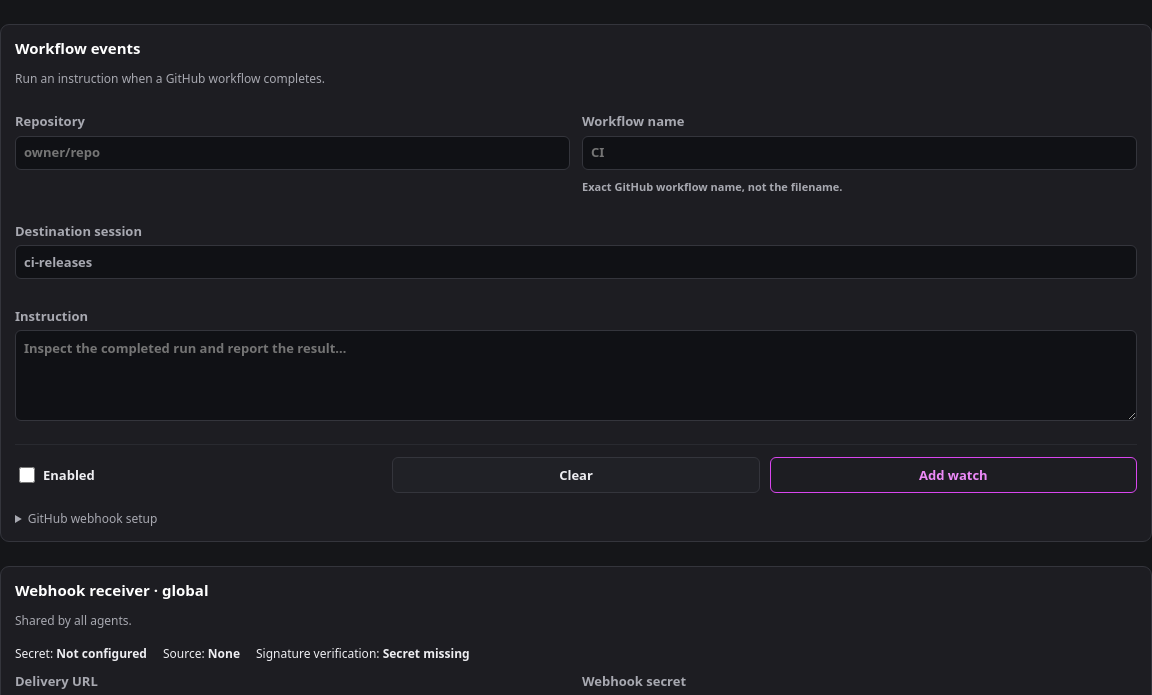
Test: validates then creates an explicit instruction and destination, disabled by default
Click the button "Add watch" at (953, 475), box [770,457,1137,493]
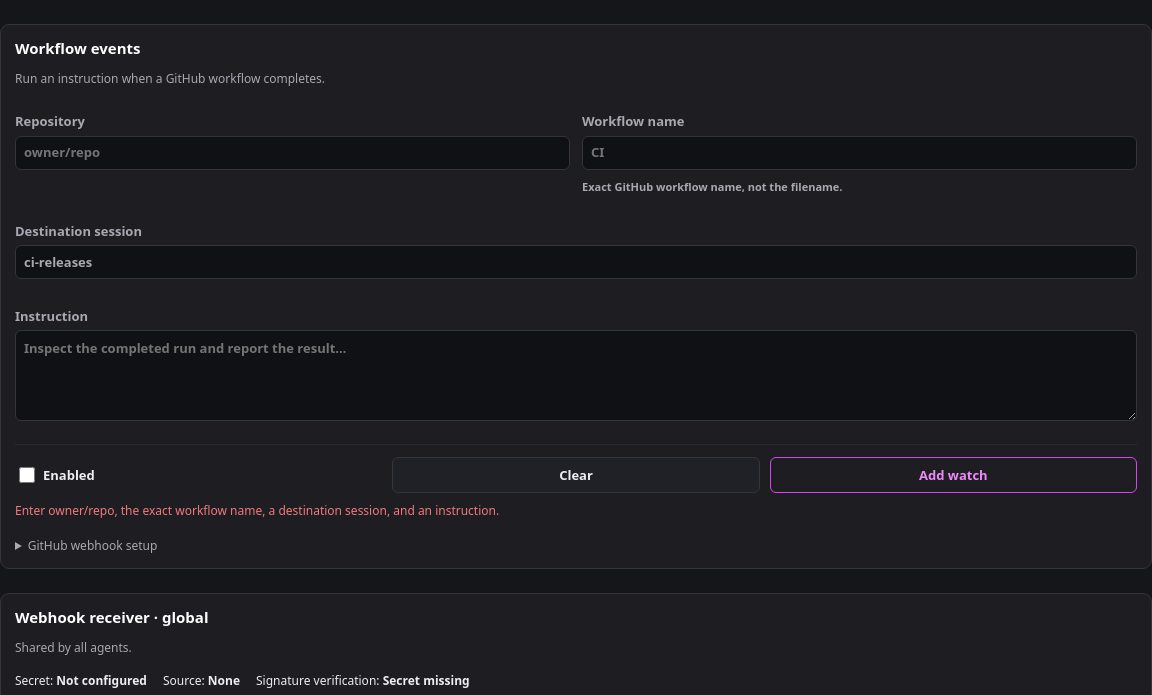
Result: the message shows "Enter owner/repo" at [15,502,499,519]
Type "kingdom/ui" into the field labelled "Repository" at (292, 153), box [15,136,570,170]
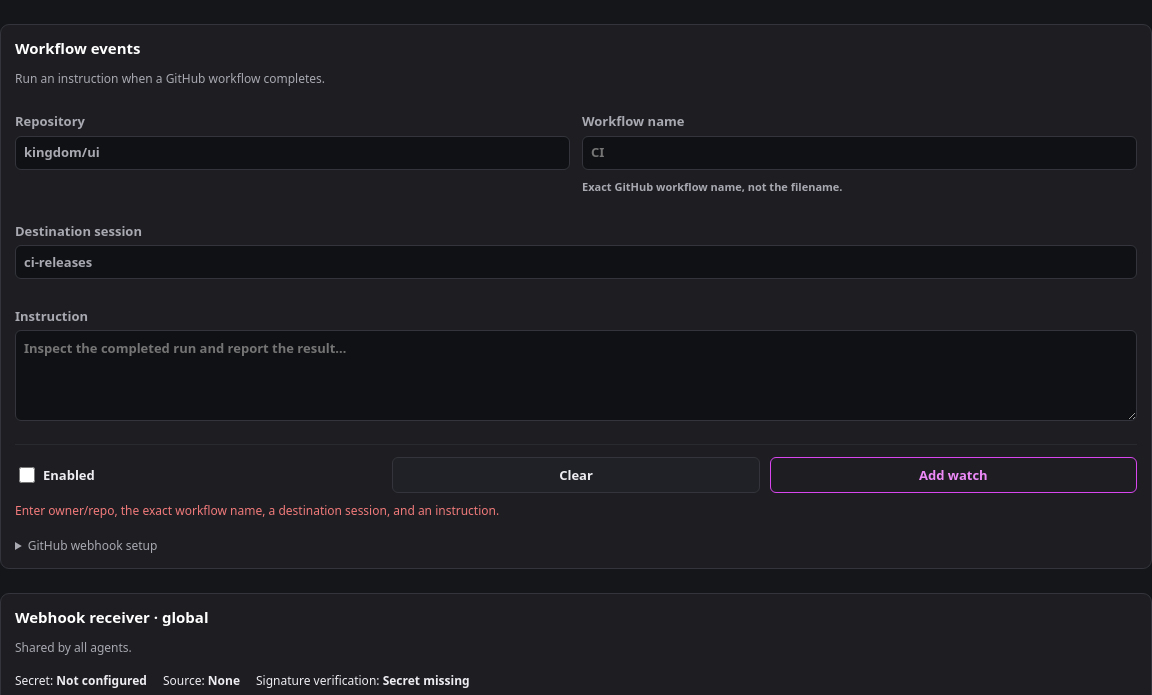
Type "CI exact name" into the field labelled "Workflow name Exact GitHub workflow name, not the filename." at (860, 153), box [582,136,1137,170]
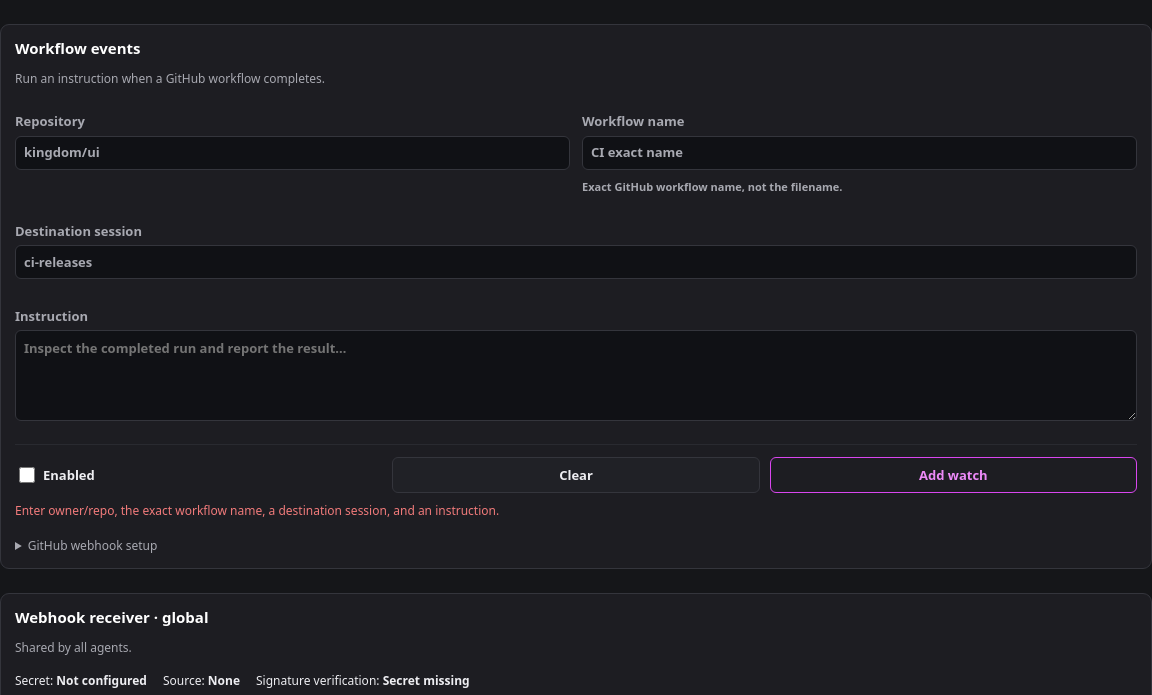
Type "Report failures" into the text box labelled "Instruction" at (576, 376), box [15,330,1137,421]
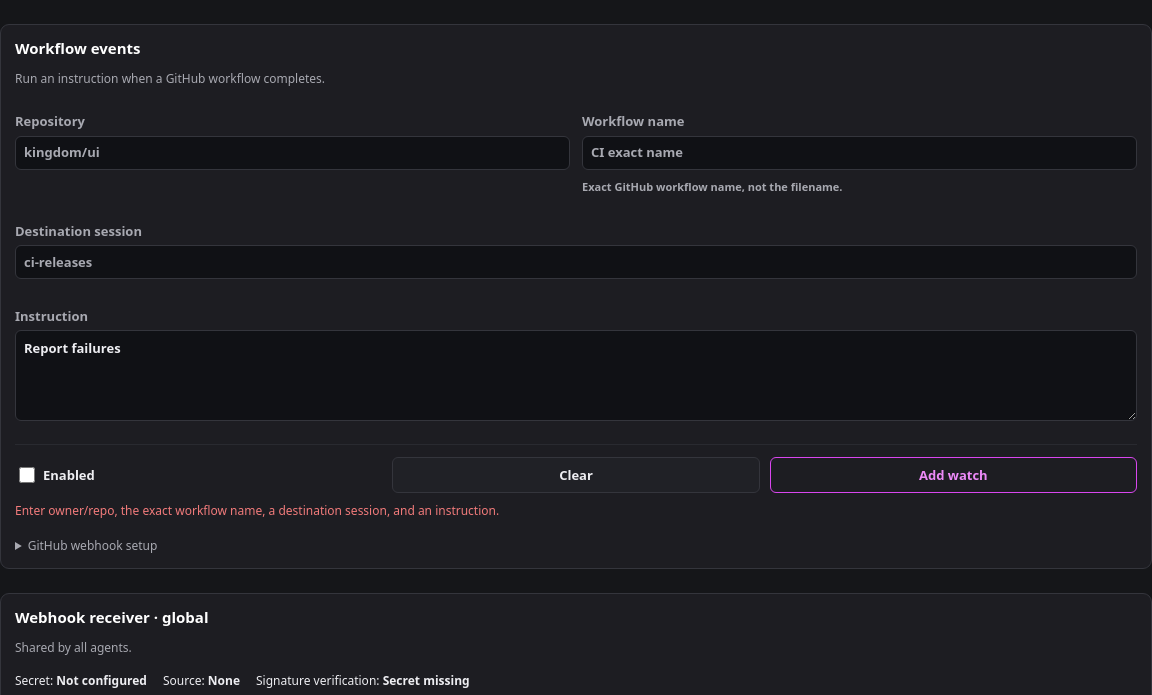
Replace the text in the field labelled "Destination session" with "release-review" at (576, 262), box [15,245,1137,279]
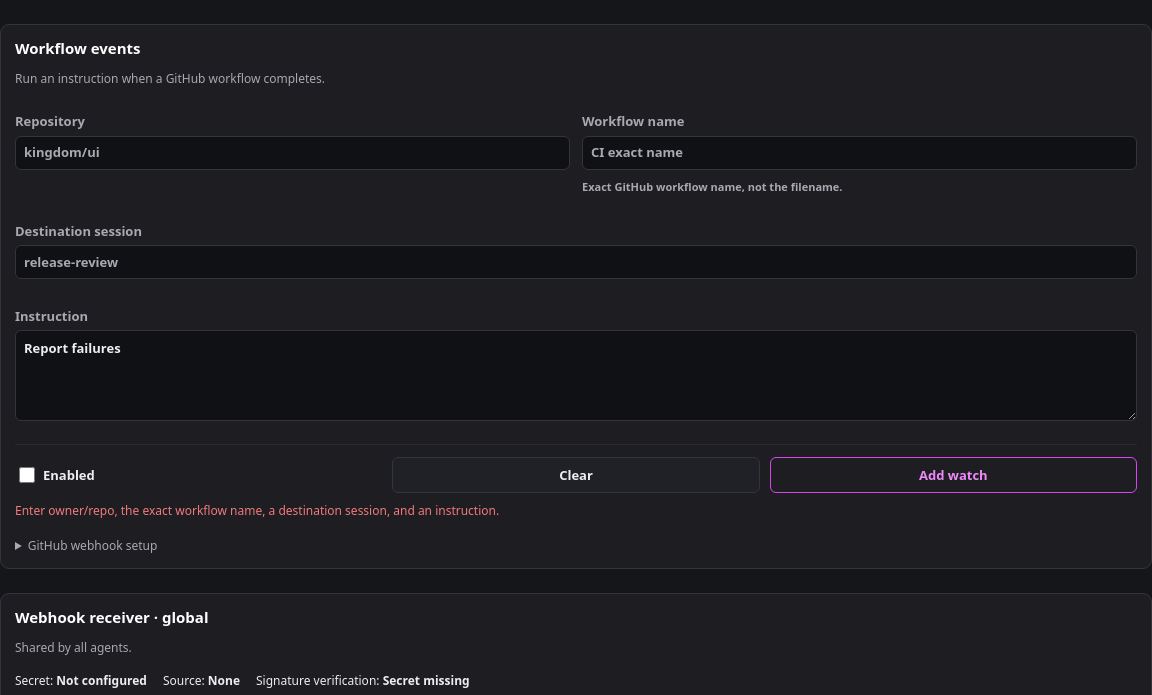
Click the button "Add watch" at (953, 475), box [770,457,1137,493]
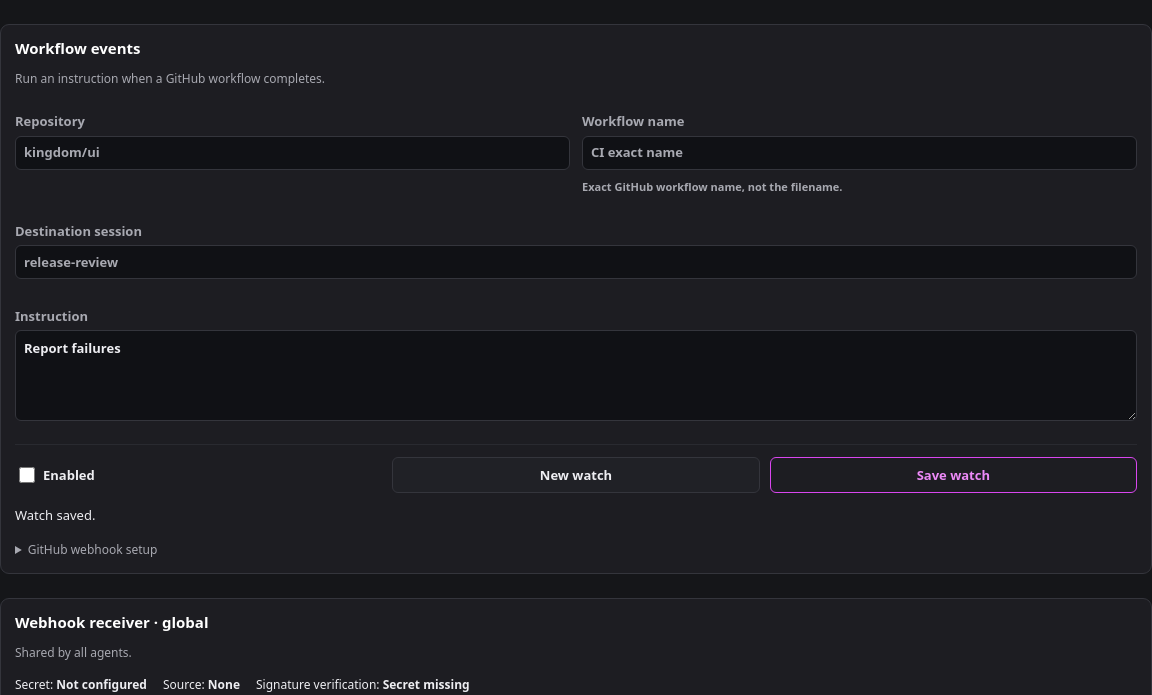
Result: the text "Watch saved." is shown at [15,506,95,524]
